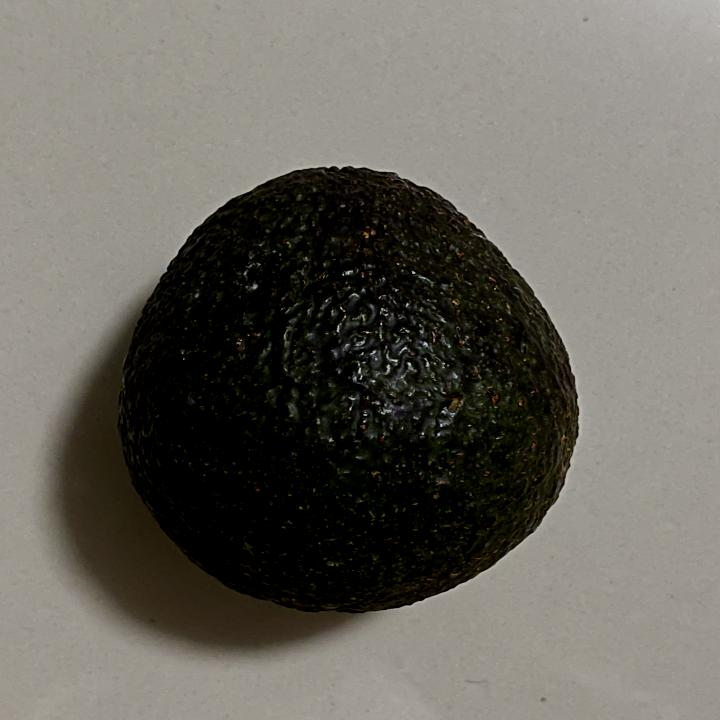Level1: (100, 151, 602, 625)
